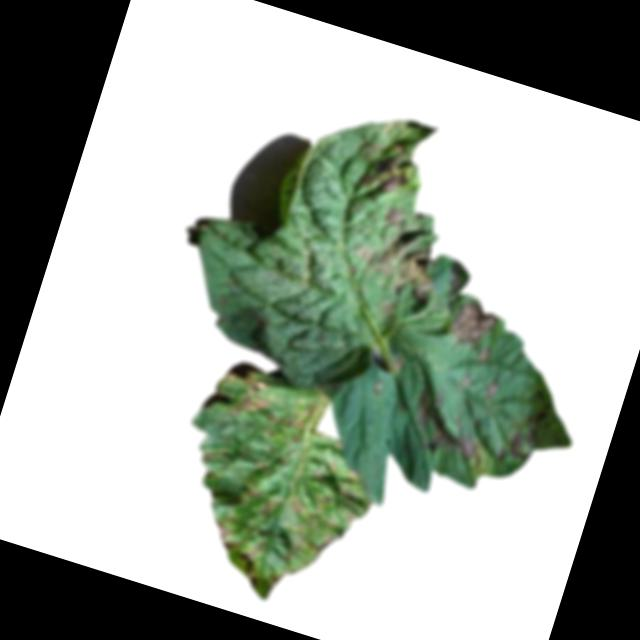Early_blight: (352, 199, 454, 302), (402, 376, 498, 466), (350, 129, 419, 198), (446, 293, 499, 353), (233, 370, 274, 417), (235, 541, 271, 592), (208, 515, 248, 555), (496, 422, 528, 466), (264, 407, 309, 435)
